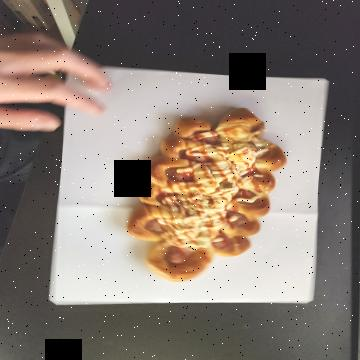pizza_bread: (104, 75, 280, 236)
